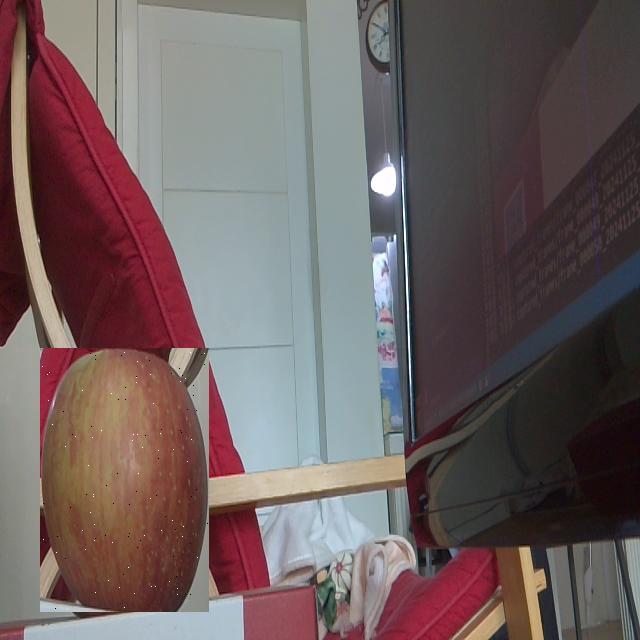apple: (40, 348, 209, 612)
